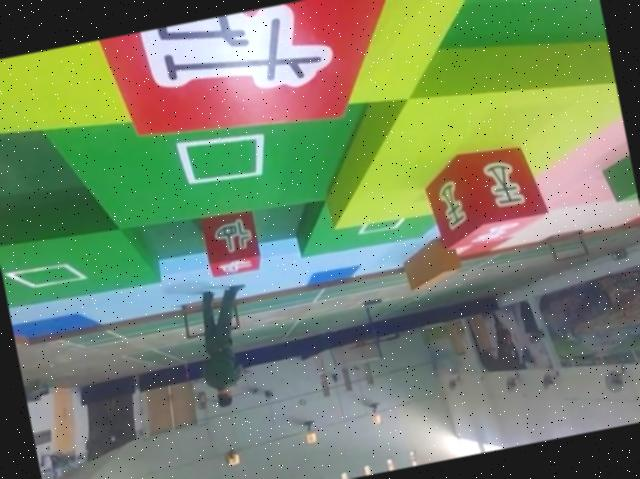R2 Real: (92, 0, 418, 158), (414, 140, 556, 258), (199, 207, 262, 280)
